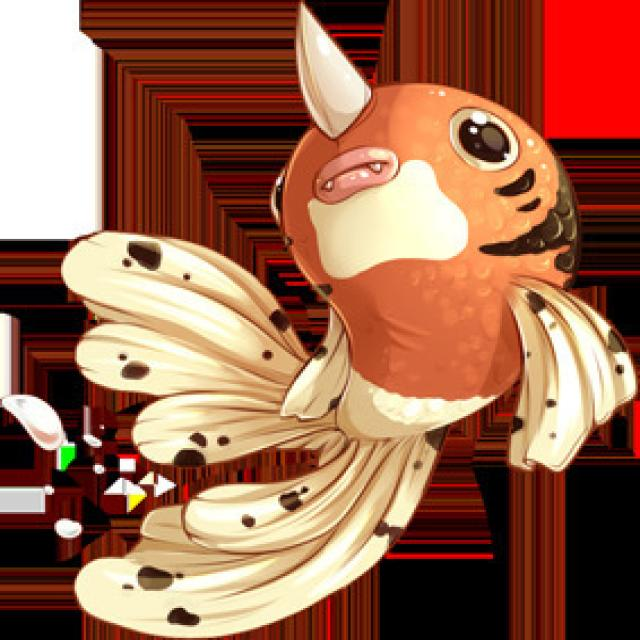Seaking: (81, 81, 590, 457)
